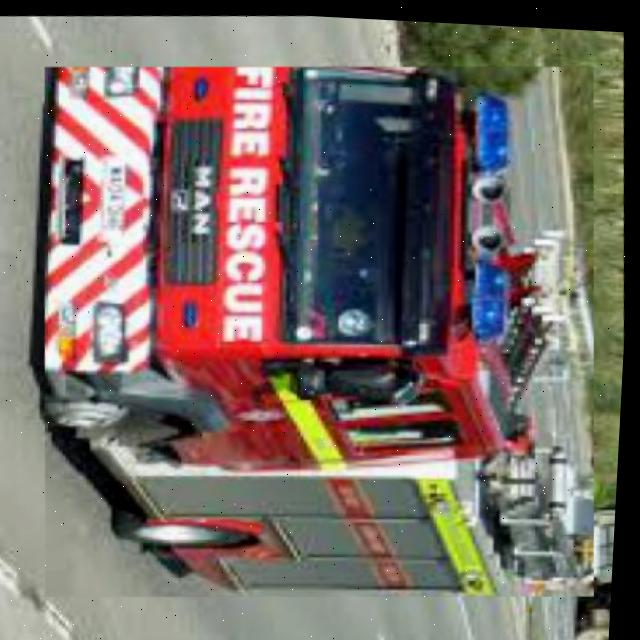Fire Truck: (24, 37, 622, 618)
